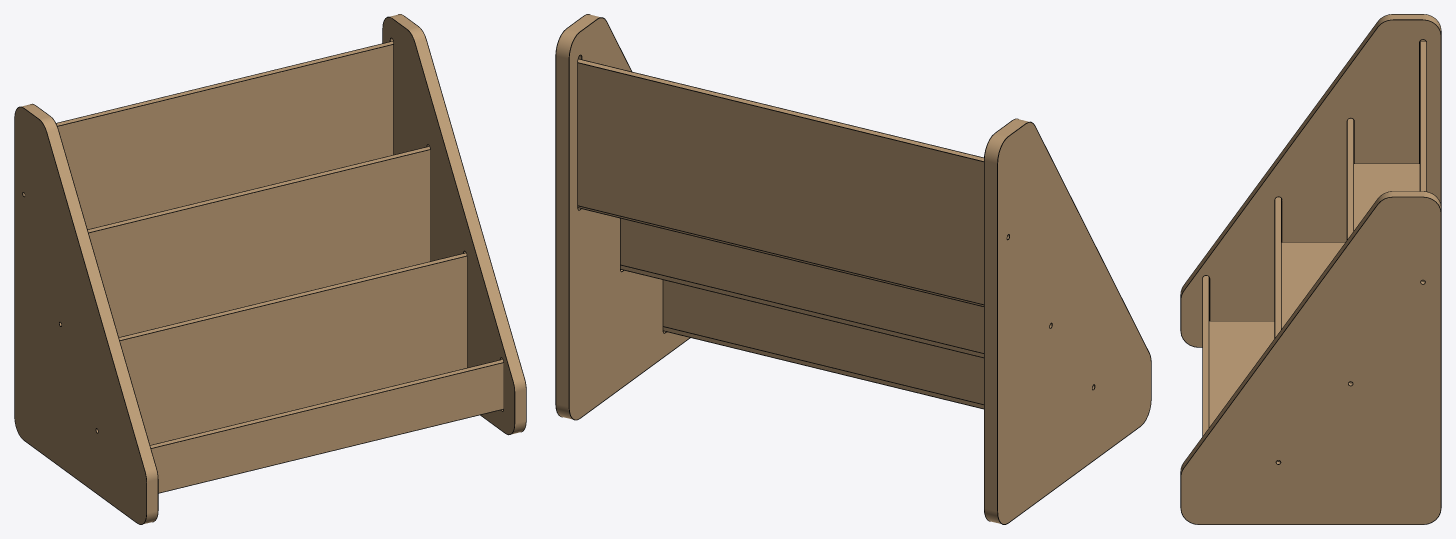
Rendered from modelo.glb.
The picture shows the model from 3 angles, left to right: view 1: azimuth 30°, elevation 25°; view 2: azimuth 150°, elevation 25°; view 3: azimuth 270°, elevation 25°; orthographic projection. The views are drawn at different scales.
Visible parts, largest first — view 1: Cuerpo21, Cuerpo20, Cuerpo22, Cuerpo27, Cuerpo24, Cuerpo26, Cuerpo27_Bordes, Cuerpo26_Bordes, Cuerpo24_Bordes, Cuerpo21_Bordes, Cuerpo20_Bordes, Cuerpo22_Bordes; view 2: Cuerpo22, Cuerpo27, Cuerpo26, Cuerpo20, Cuerpo21, Cuerpo26_Bordes, Cuerpo22_Bordes, Cuerpo27_Bordes, Cuerpo19, Cuerpo23, Cuerpo18; view 3: Cuerpo26, Cuerpo27, Cuerpo23, Cuerpo19, Cuerpo18, Cuerpo27_Bordes, Cuerpo26_Bordes, Cuerpo22, Cuerpo24, Cuerpo21, Cuerpo20, Cuerpo24_Bordes (+3 smaller).
Part boxes in pixels (x1,y1,x2,y2): Cuerpo21: [119, 253, 466, 444]; Cuerpo20: [88, 146, 430, 337]; Cuerpo22: [56, 41, 393, 229]; Cuerpo27: [15, 104, 157, 524]; Cuerpo24: [150, 359, 503, 492]; Cuerpo26: [383, 14, 525, 434]; Cuerpo27_Bordes: [14, 103, 158, 524]; Cuerpo26_Bordes: [382, 14, 526, 435]; Cuerpo24_Bordes: [150, 359, 503, 493]; Cuerpo21_Bordes: [119, 252, 466, 340]; Cuerpo20_Bordes: [87, 146, 430, 232]; Cuerpo22_Bordes: [56, 41, 393, 126]; Cuerpo22: [578, 59, 983, 304]; Cuerpo27: [984, 119, 1150, 523]; Cuerpo26: [556, 14, 689, 419]; Cuerpo20: [620, 218, 983, 352]; Cuerpo21: [663, 280, 983, 404]; Cuerpo26_Bordes: [555, 14, 690, 420]; Cuerpo22_Bordes: [577, 58, 983, 305]; Cuerpo27_Bordes: [984, 118, 1151, 524]; Cuerpo19: [620, 265, 983, 357]; Cuerpo23: [663, 327, 983, 408]; Cuerpo18: [578, 206, 983, 306]; Cuerpo26: [1181, 191, 1440, 524]; Cuerpo27: [1181, 14, 1440, 346]; Cuerpo23: [1209, 321, 1274, 426]; Cuerpo19: [1281, 242, 1344, 328]; Cuerpo18: [1354, 164, 1419, 229]; Cuerpo27_Bordes: [1180, 14, 1441, 347]; Cuerpo26_Bordes: [1180, 191, 1441, 524]; Cuerpo22: [1420, 41, 1426, 281]; Cuerpo24: [1203, 276, 1208, 435]; Cuerpo21: [1275, 197, 1280, 461]; Cuerpo20: [1347, 118, 1353, 382]; Cuerpo24_Bordes: [1202, 275, 1209, 436].
Size of the model in its own units: 0.599 by 0.5011 by 0.3611.
